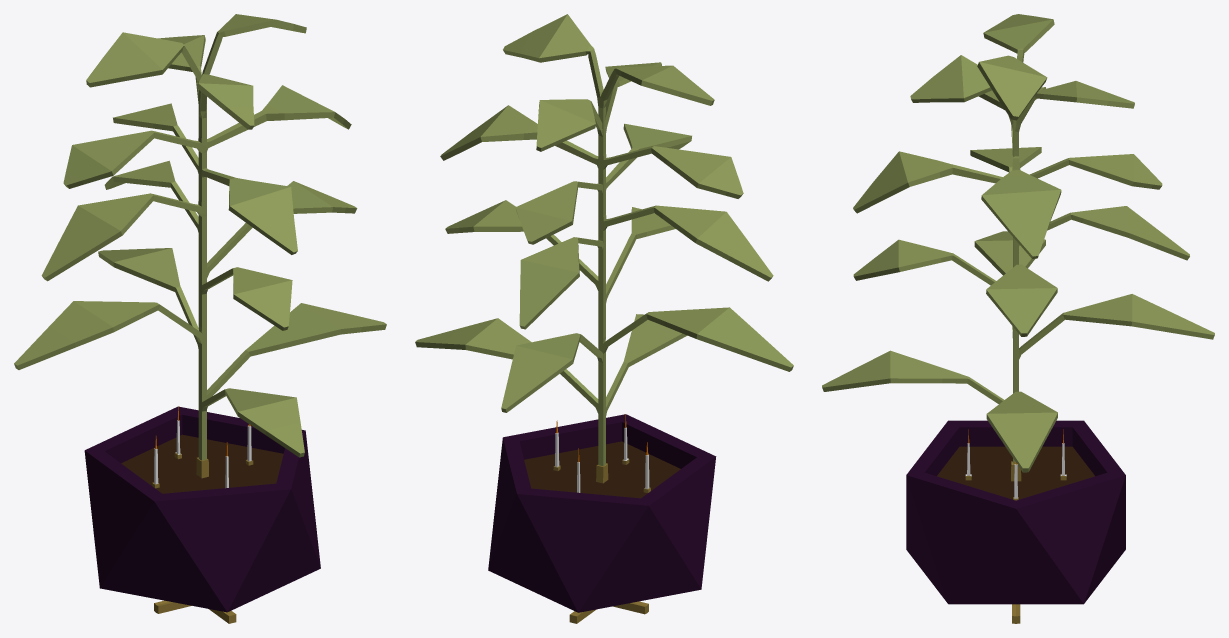
File: cicek.fbx
The picture shows the model from 3 angles, left to right: view 1: azimuth 30°, elevation 25°; view 2: azimuth 150°, elevation 25°; view 3: azimuth 270°, elevation 25°; orthographic projection. The views are drawn at different scales.
Parts seen in each view (by area): view 1: Plane.002, Plane; view 2: Plane.002, Plane; view 3: Plane.002, Plane.
Part boxes in pixels (x1,y1,x2,y2): Plane.002: [14, 14, 386, 612]; Plane: [152, 406, 253, 623]; Plane.002: [415, 14, 793, 612]; Plane: [553, 414, 650, 623]; Plane.002: [822, 14, 1214, 604]; Plane: [965, 429, 1066, 623].
Bounding box in the file's own units: 181 × 265 × 167.
